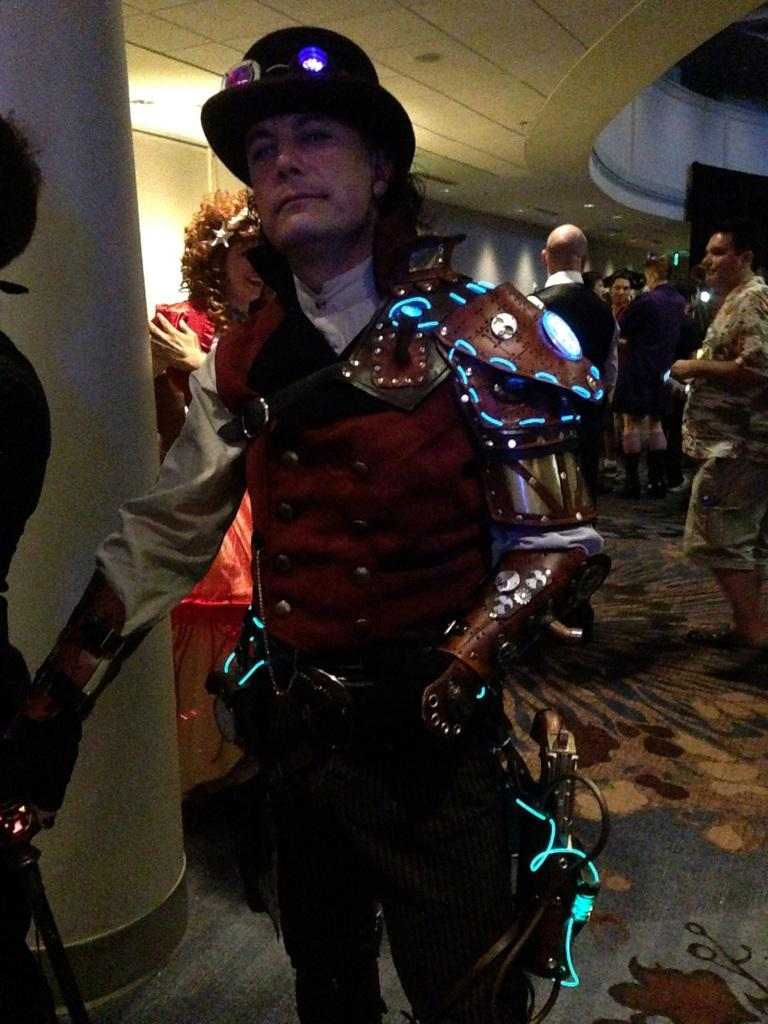Hat: (196, 26, 420, 192)
